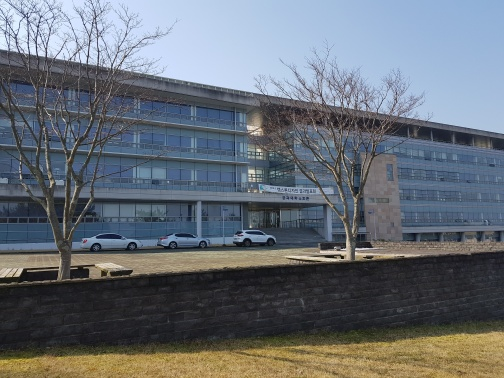Engineering College Building 4: (2, 57, 497, 241), (355, 134, 499, 237), (266, 175, 331, 214)
